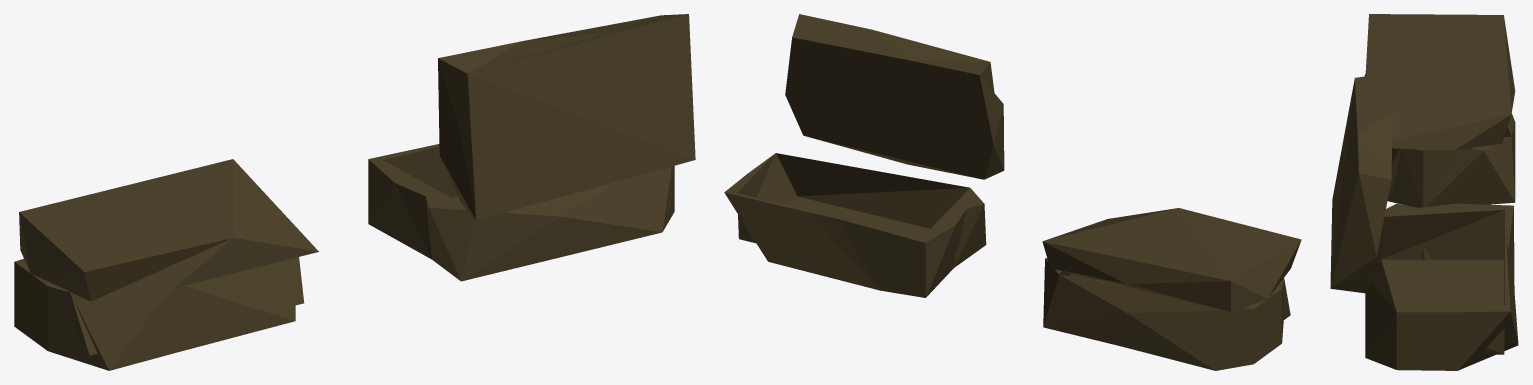
The model's file is container-40.lod2.glb.
The picture shows the model from 3 angles, left to right: view 1: azimuth 30°, elevation 25°; view 2: azimuth 150°, elevation 25°; view 3: azimuth 270°, elevation 25°; orthographic projection. The views are drawn at different scales.
Visible parts, largest first — view 1: Case_Texture_0; view 2: Case_Texture_0; view 3: Case_Texture_0.
Part boxes in pixels (x1,y1,x2,y2): Case_Texture_0: [14, 14, 695, 370]; Case_Texture_0: [724, 14, 1301, 370]; Case_Texture_0: [1330, 14, 1518, 370].
Size of the model in its own units: 11.97 by 4.13 by 3.52.
